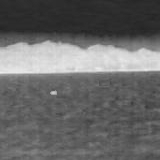Target: (49, 90, 58, 96)
